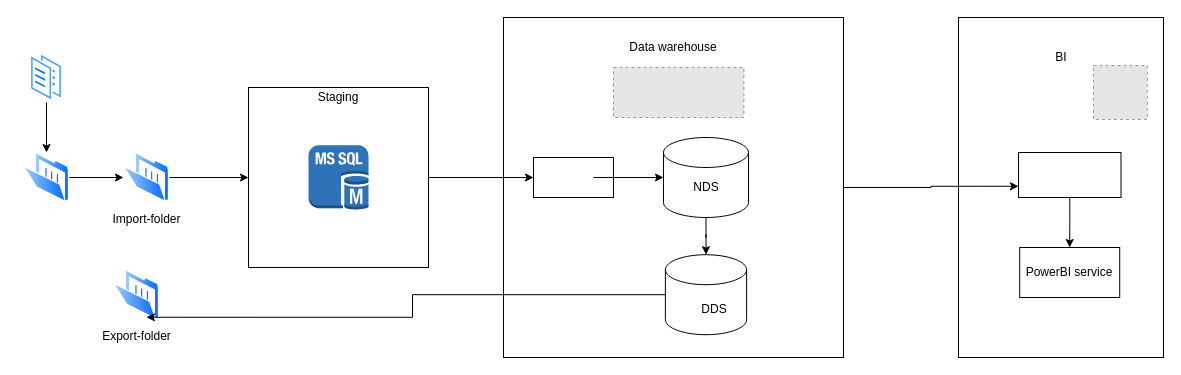
Some shapes in this 1181 by 375 pixel diagram are drawn without their labels. Grey dashed boxes stand in for pictures. The box of each missing label's shape, as (x1, y1, x2, y2) in pixels:
PowerBI desktop: (1018, 152, 1121, 198)
Raw-folder: (23, 152, 69, 202)
Stage: (532, 156, 614, 198)
